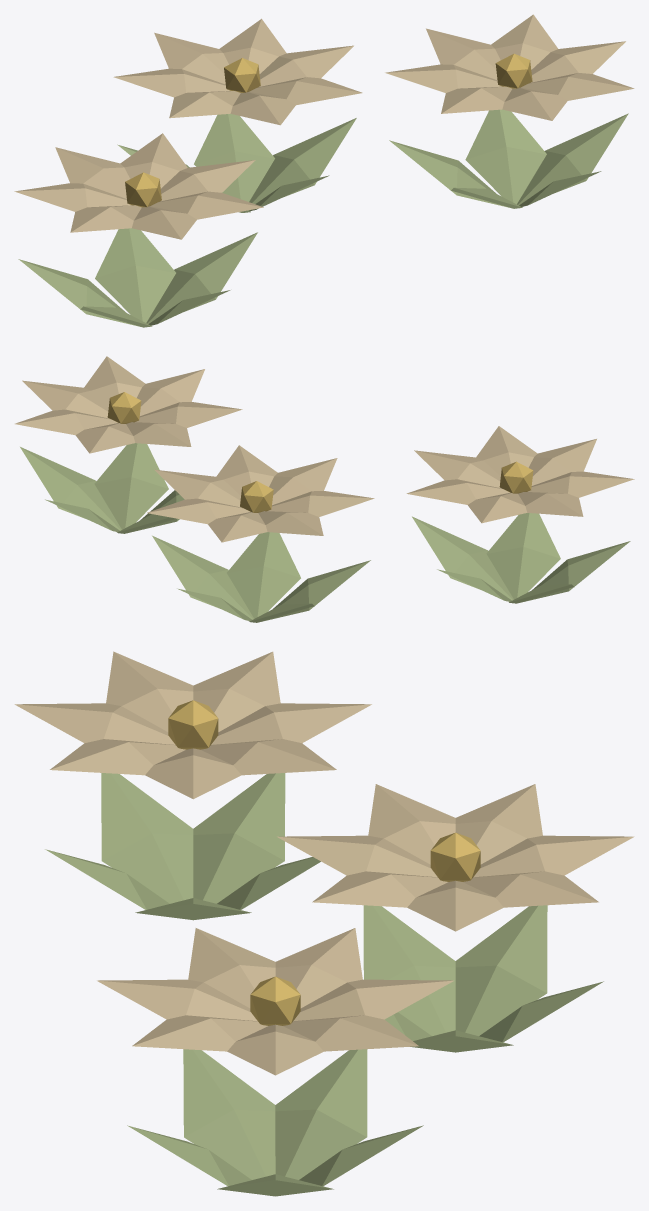
The model's file is map-exclusive-v3__meadow_16.glb.
3 views of the same model, one above another, from view 1: azimuth 30°, elevation 25°; view 2: azimuth 150°, elevation 25°; view 3: azimuth 270°, elevation 25° (orthographic). The views are drawn at different scales.
Parts seen in each view (by area): view 1: meadow_16; view 2: meadow_16; view 3: meadow_16.
Boxes of the visible parts, x1,y1,x2,y2 form: meadow_16: (14, 14, 634, 327); meadow_16: (15, 356, 634, 622); meadow_16: (14, 651, 634, 1196).
Bounding box in the file's own units: 2.57 × 0.6202 × 1.59.
